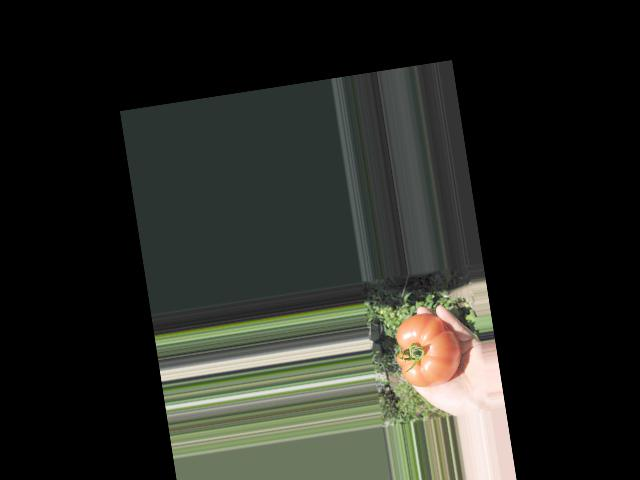tomato: (390, 308, 464, 390)
